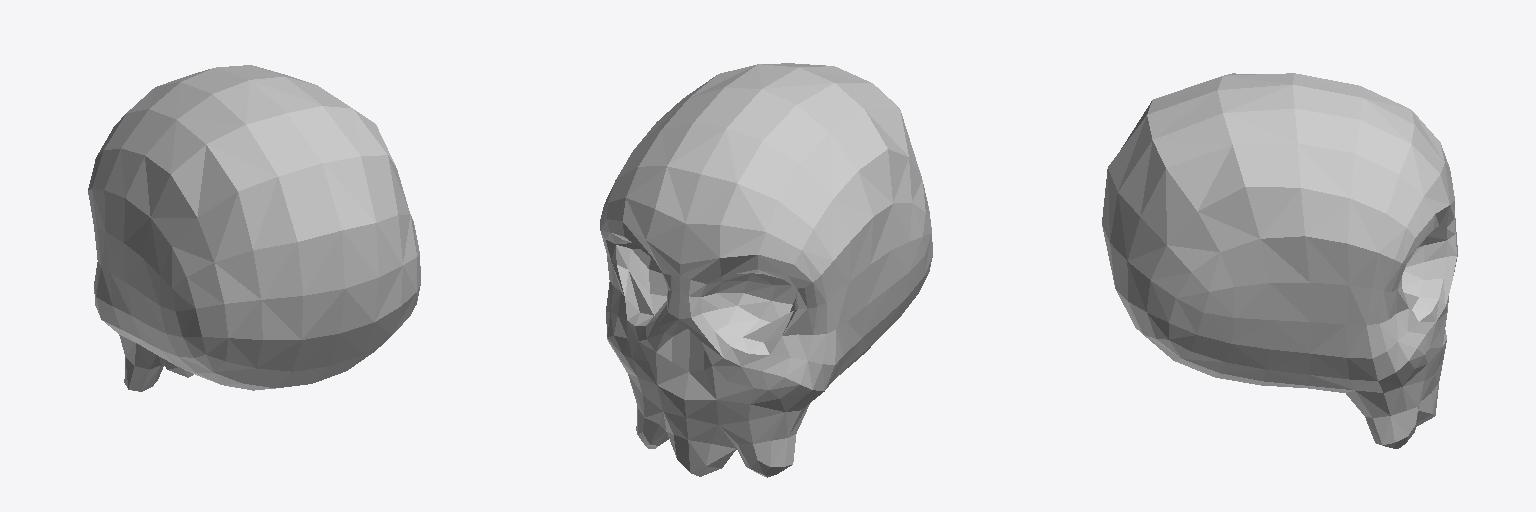
File: Skull_2.obj
3 renders of one model, left to right at view 1: azimuth 30°, elevation 25°; view 2: azimuth 150°, elevation 25°; view 3: azimuth 270°, elevation 25°, orthographic.
Visible parts, largest first — view 1: ZBrush_defualt_group; view 2: ZBrush_defualt_group; view 3: ZBrush_defualt_group.
Boxes of the visible parts, box(x1,y1,x2,y2) form: ZBrush_defualt_group: box(88, 65, 420, 391); ZBrush_defualt_group: box(600, 63, 932, 477); ZBrush_defualt_group: box(1102, 73, 1457, 448).
Bounding box in the file's own units: 1.37 × 1.88 × 1.77.